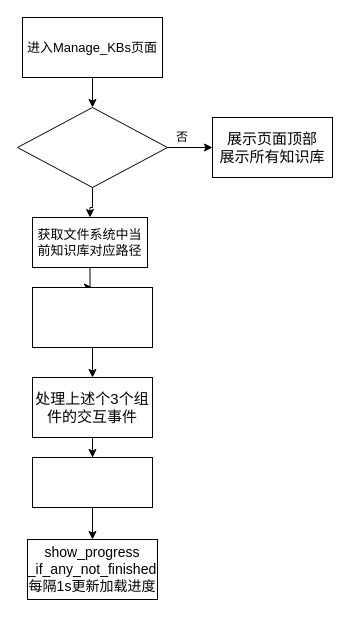
Image size: 350x617. Some labels were removed from this diagram. The shapes that lost their labels are listed below. From the top down, each one's box as (x1, y1, x2, y2) in pixels, then its label:
(16, 106, 168, 188): 当前是否打开某个知识库
(32, 286, 152, 348): 加载标题、文件上传区域、一键解析按钮
(32, 456, 152, 508): 展示该知识库所有文件
